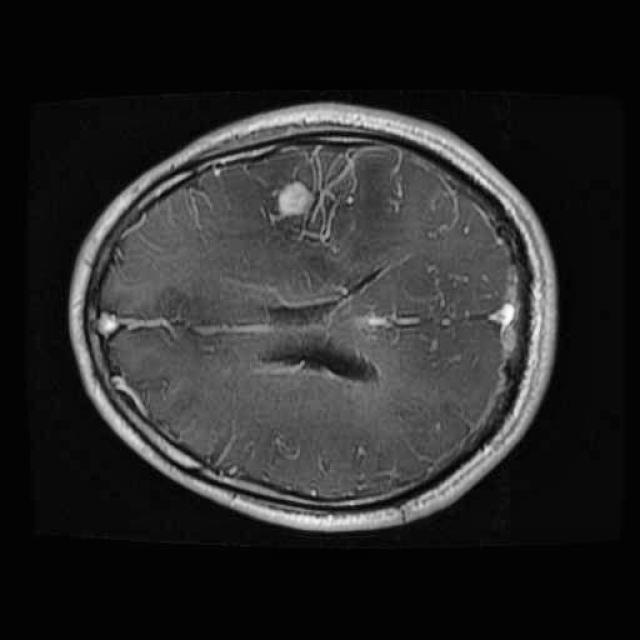Non-Tumor: (249, 139, 374, 253)
